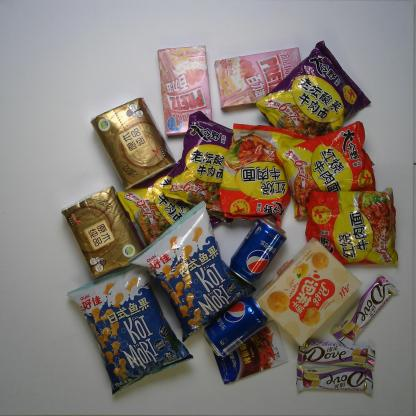Chocolate: (328, 272, 400, 350), (295, 334, 377, 373), (294, 362, 374, 396)
Dessert: (250, 236, 365, 346), (215, 44, 308, 112), (155, 42, 213, 140)
Drink: (203, 294, 269, 360), (227, 216, 289, 286)
Instant Noodles: (255, 37, 373, 162), (114, 146, 238, 257), (272, 117, 378, 222), (158, 108, 249, 229), (216, 119, 312, 229), (301, 184, 400, 270)
Puffed Food: (63, 253, 194, 399), (126, 199, 258, 343)
Seasoner: (212, 315, 290, 385)
Tissue: (60, 183, 150, 283), (88, 96, 177, 191)
